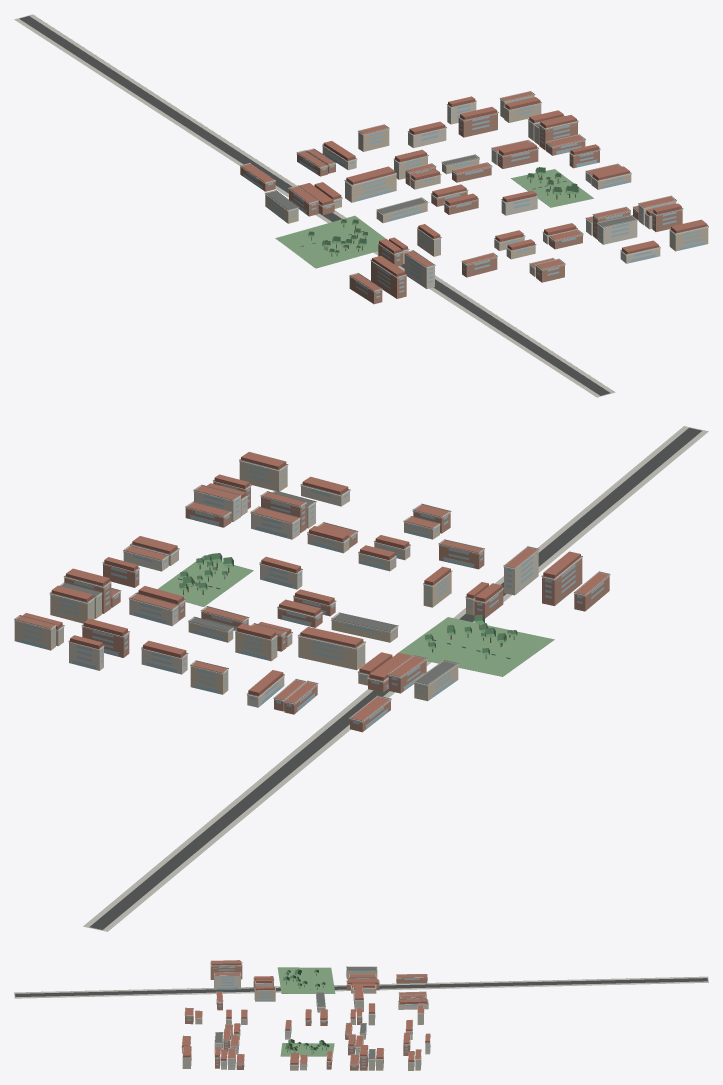
3 renders of one model, top to bottom at view 1: azimuth 30°, elevation 25°; view 2: azimuth 150°, elevation 25°; view 3: azimuth 270°, elevation 25°, orthographic. The views are drawn at different scales.
Visible parts, largest first — view 1: road-radial-0-1-mesh-1, road-radial-0-1-mesh-0, neighborhood-park-block-286-mesh-2, neighborhood-park-block-383-mesh-7, building-0689-mesh-77, building-0655-mesh-17, building-0840-mesh-212, building-0834-mesh-182; view 2: road-radial-0-1-mesh-1, road-radial-0-1-mesh-0, neighborhood-park-block-286-mesh-2, neighborhood-park-block-383-mesh-7, building-0689-mesh-77, building-0655-mesh-17, building-0896-mesh-217, neighborhood-park-block-383-mesh-10, building-0907-mesh-272, building-0656-mesh-22; view 3: road-radial-0-1-mesh-0, road-radial-0-1-mesh-1, neighborhood-park-block-286-mesh-2, neighborhood-park-block-383-mesh-7, building-0656-mesh-22, building-0655-mesh-17, neighborhood-park-block-383-mesh-10, neighborhood-park-block-286-mesh-5, building-0687-mesh-67.
Boxes of the visible parts, x1,y1,x2,y2 form: road-radial-0-1-mesh-1: (19, 16, 610, 395); road-radial-0-1-mesh-0: (14, 14, 615, 397); neighborhood-park-block-286-mesh-2: (275, 215, 385, 268); neighborhood-park-block-383-mesh-7: (511, 169, 593, 207); building-0689-mesh-77: (345, 174, 396, 202); building-0655-mesh-17: (371, 261, 406, 298); building-0840-mesh-212: (458, 113, 497, 137); building-0834-mesh-182: (598, 220, 637, 244); road-radial-0-1-mesh-1: (89, 428, 701, 929); road-radial-0-1-mesh-0: (83, 426, 708, 931); neighborhood-park-block-286-mesh-2: (396, 617, 554, 676); neighborhood-park-block-383-mesh-7: (157, 556, 253, 606); building-0689-mesh-77: (298, 636, 365, 670); building-0655-mesh-17: (542, 558, 582, 605); building-0896-mesh-217: (239, 461, 287, 491); neighborhood-park-block-383-mesh-10: (179, 553, 233, 590); building-0907-mesh-272: (50, 594, 94, 623); building-0656-mesh-22: (504, 550, 538, 595); road-radial-0-1-mesh-0: (14, 976, 708, 998); road-radial-0-1-mesh-1: (15, 978, 707, 997); neighborhood-park-block-286-mesh-2: (277, 967, 335, 993); neighborhood-park-block-383-mesh-7: (280, 1043, 334, 1056); building-0656-mesh-22: (214, 974, 240, 989); building-0655-mesh-17: (210, 962, 242, 979); neighborhood-park-block-383-mesh-10: (285, 1039, 329, 1051); neighborhood-park-block-286-mesh-5: (283, 969, 325, 987); building-0687-mesh-67: (254, 988, 275, 1001).
Bounding box in the file's own units: 252 × 17.98 × 714.
